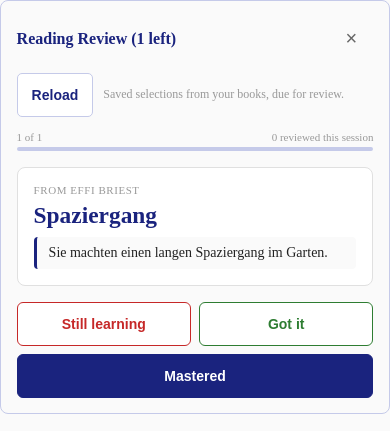
Scenario: ReadingReviewPage › after submitting the last selection, shows the "Session complete" panel
Click the button with test id "reading-review-got-it": (286, 324) [199,302,373,346]
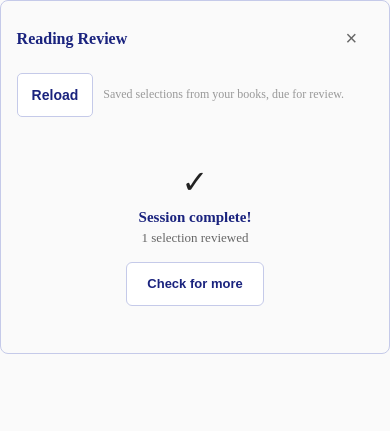
Expected: the element with test id "reading-review-session-complete" is shown, [126,164,264,306]
Expected: the text "1 selection reviewed" is shown, [142,230,248,245]
